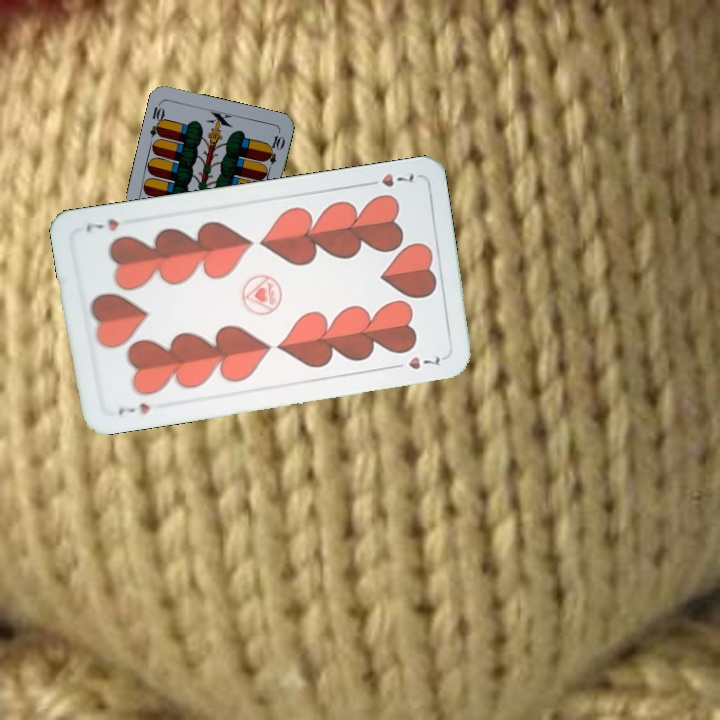E10: (146, 99, 167, 139)
H7: (361, 169, 417, 190), (114, 398, 152, 417)
